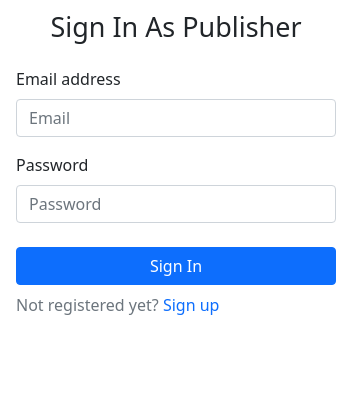
Testing SignIn component › Testing the component when the server send an error it should display the error
Step 1. Type "testtest@email.com" into the field with placeholder "Email" → (176, 118), box [16,99,336,137]
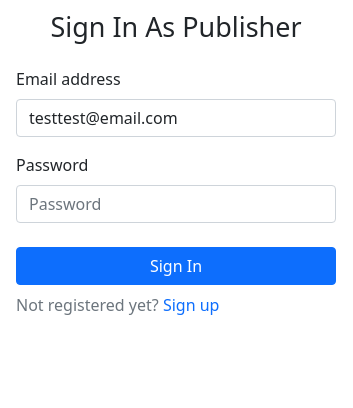
Step 2. Type "test" into the password field with placeholder "Password" → (176, 204), box [16,185,336,223]
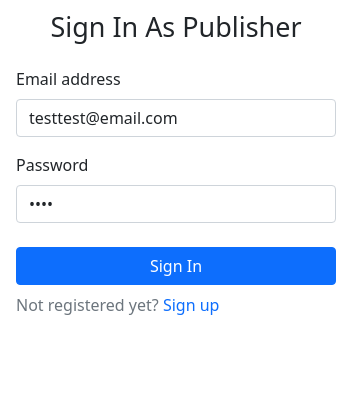
Step 3. Click the button "Sign In" → (176, 266), box [16,247,336,285]
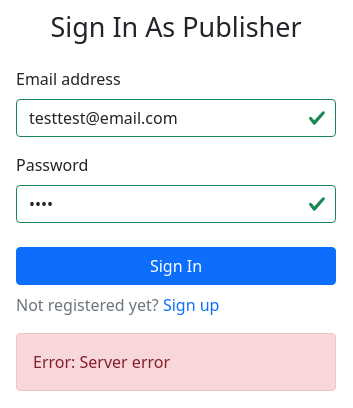
Now the text "Error: Server error" is shown, box [16,333,336,391]
